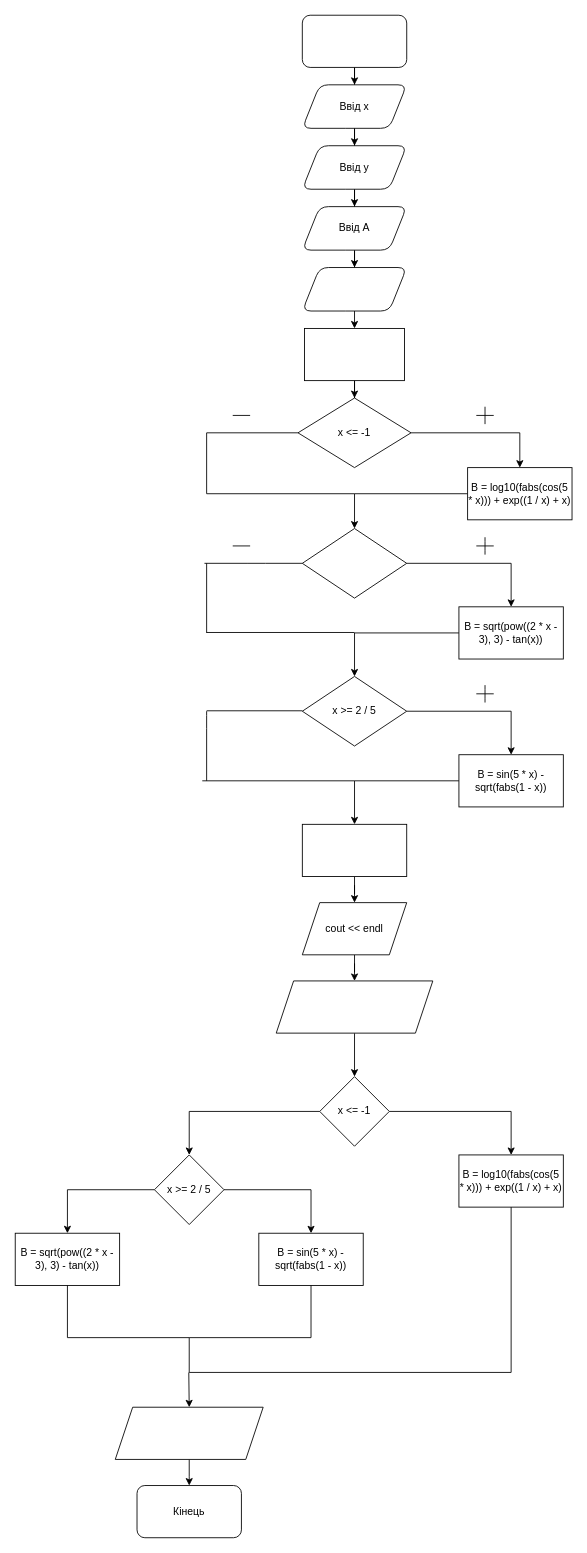
This 587x1553 diagram has some shape labels left out. The box of each missing label's shape, as (x1, y1, x2, y2) in pixels:
A = x: (304, 328, 405, 381)
cout << "1)y = " << y << endl: (275, 980, 433, 1033)
cout << "2) = " << y << endl: (114, 1406, 263, 1459)
x > -1 && x < 2 / 5: (301, 528, 407, 598)
y = A+B: (301, 823, 407, 877)
Ввід B: (301, 267, 407, 311)
Початок: (301, 14, 407, 67)
